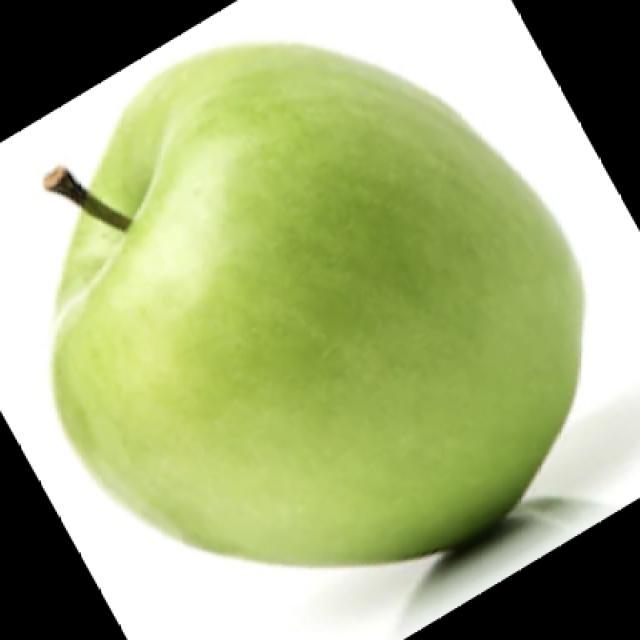Fresh Apple: (49, 32, 588, 564)
